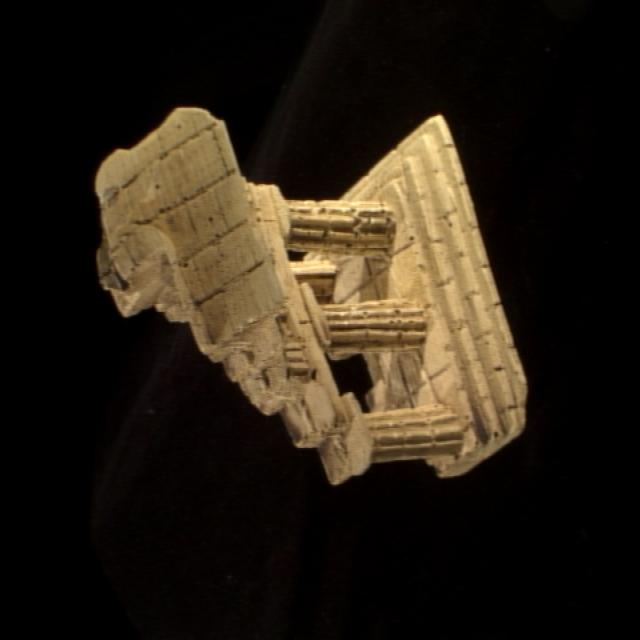Instance-Segmentation: (95, 108, 526, 483)
